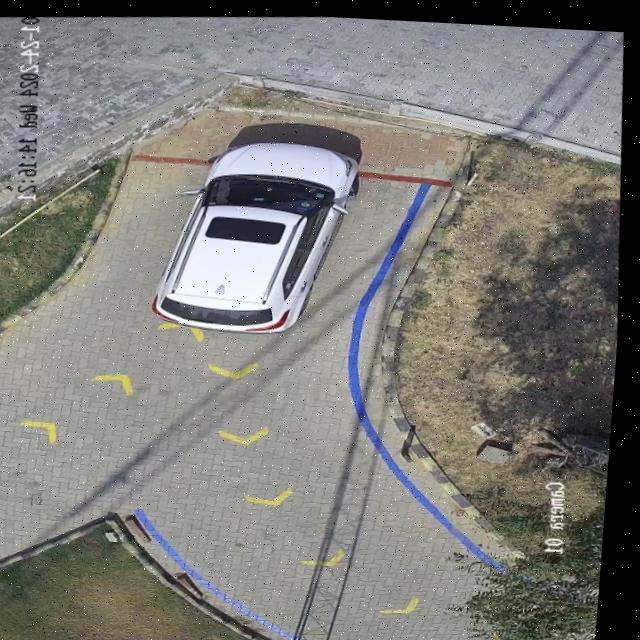car: (157, 139, 360, 330)
